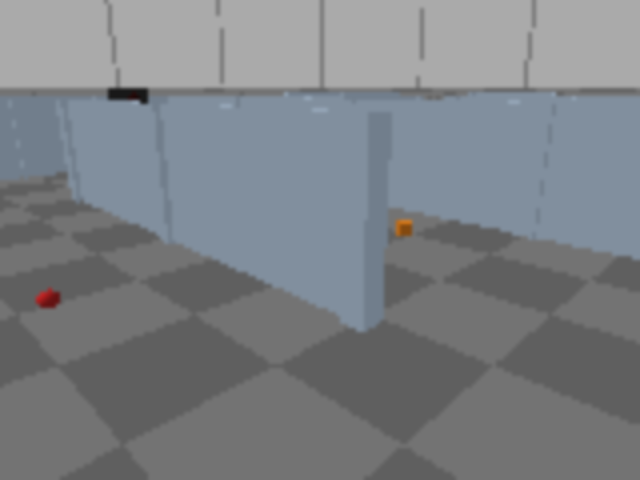puck: (32, 285, 64, 315), (396, 220, 414, 237)
